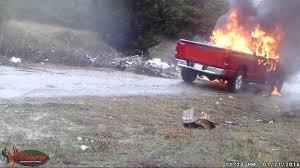fire: (210, 14, 282, 64)
